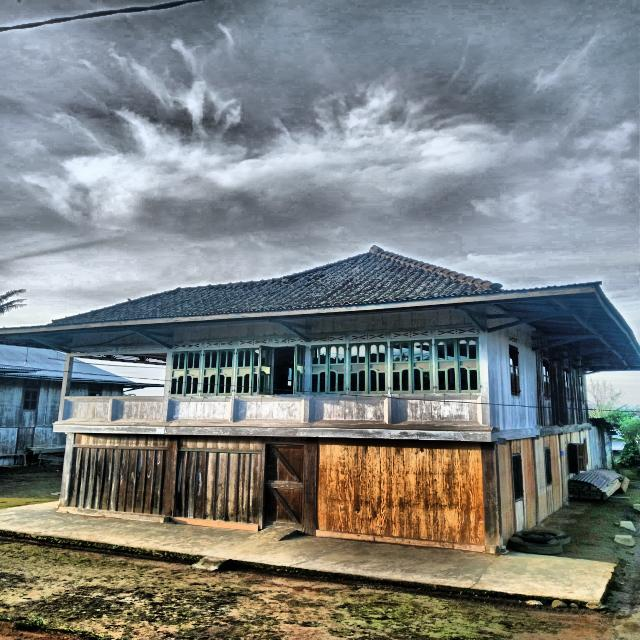door: (264, 443, 304, 530)
ornamen: (391, 395, 482, 425), (309, 396, 387, 424), (232, 398, 304, 423), (167, 398, 231, 422), (111, 399, 164, 422), (61, 398, 111, 422)
roof: (0, 246, 640, 372), (0, 345, 65, 381), (72, 360, 139, 387)
wall: (308, 309, 482, 432), (316, 437, 485, 545), (166, 321, 305, 427), (66, 433, 168, 516), (174, 435, 263, 525), (488, 323, 536, 430), (497, 438, 537, 546), (537, 347, 589, 427), (535, 434, 562, 522), (561, 429, 592, 505)
window: (434, 337, 481, 393), (257, 344, 306, 395), (390, 339, 434, 394), (349, 341, 388, 394), (309, 343, 347, 395), (200, 349, 235, 396), (168, 350, 201, 396), (234, 347, 263, 395), (567, 443, 587, 474), (509, 344, 520, 396), (513, 455, 523, 499), (542, 358, 551, 400), (545, 449, 552, 484), (564, 367, 571, 402), (578, 374, 585, 404)
